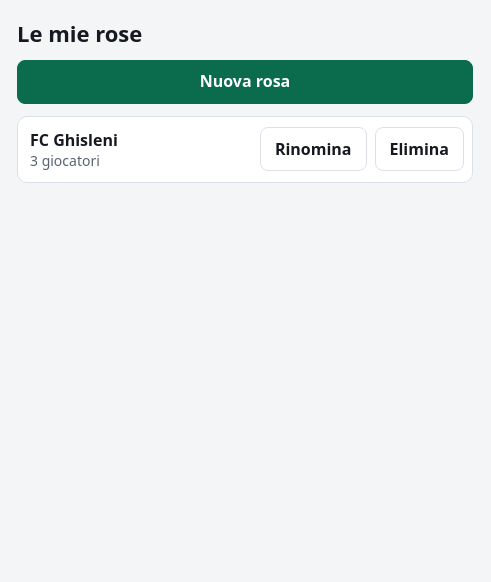
Scenario: search ignores accents and apostrophes
The width and height of the screenshot is (491, 582).
Click the text "FC Ghisleni" at (74, 140), box [30,128,118,151]
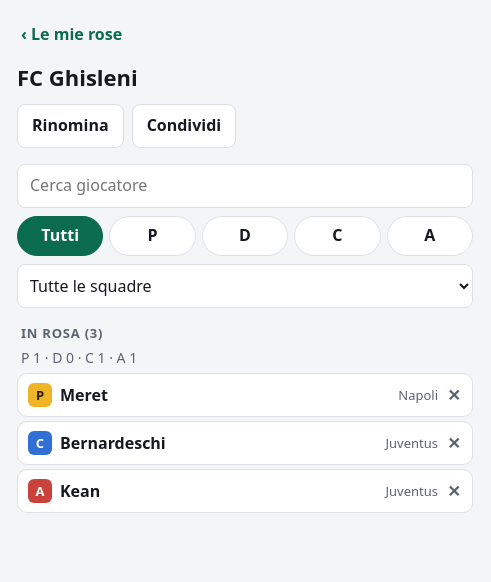
Type "ndicka" into the search field labelled "Cerca giocatore" at (245, 186), box [17,164,473,208]
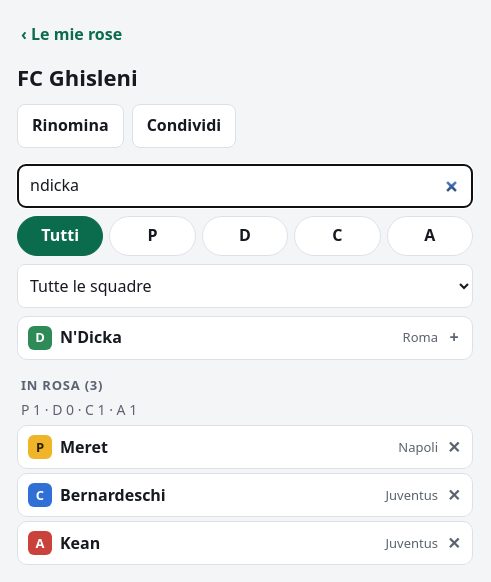
Expected: the text "N'Dicka" is shown, [60,326,122,348]
